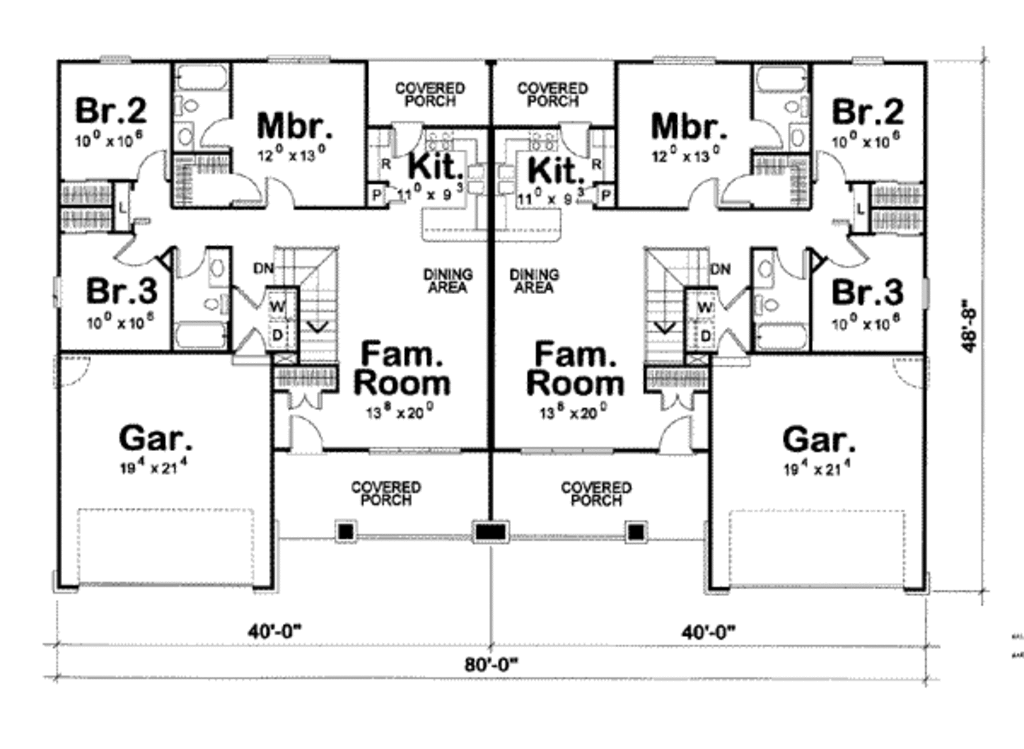door: (649, 407, 700, 460), (816, 234, 876, 279), (277, 408, 331, 456), (99, 229, 156, 271), (555, 113, 596, 166), (710, 325, 756, 371), (686, 164, 726, 214), (384, 117, 424, 163), (257, 164, 297, 209), (46, 354, 99, 385), (132, 144, 172, 184), (282, 383, 336, 412), (223, 170, 260, 211), (163, 243, 207, 276), (811, 147, 849, 185), (200, 115, 239, 151), (775, 247, 809, 285), (658, 382, 700, 411), (727, 165, 755, 207), (712, 281, 751, 310), (750, 112, 783, 146)
large_sink: (783, 85, 819, 121), (169, 87, 208, 118), (199, 283, 235, 314), (749, 284, 780, 319)
stairs: (259, 240, 357, 371), (633, 231, 709, 371)
tub: (753, 320, 813, 354), (173, 320, 234, 345), (169, 64, 235, 87), (752, 67, 809, 90)
twin_sink: (494, 159, 533, 196), (455, 158, 492, 196)
window: (637, 43, 721, 73), (362, 438, 467, 460), (516, 443, 626, 456), (266, 51, 332, 71), (94, 50, 151, 67), (843, 53, 883, 76), (46, 267, 66, 310), (915, 270, 933, 314)
